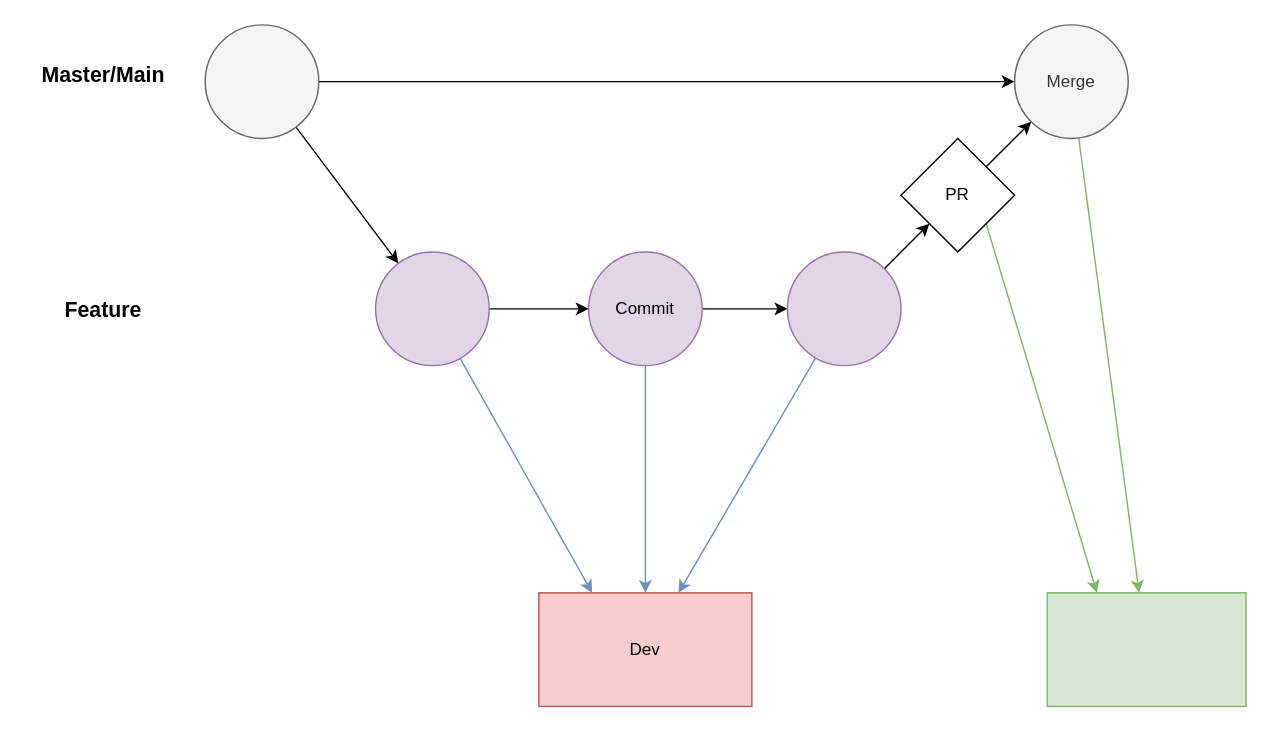
This 1271x731 diagram has some shape labels left out. The box of each missing label's shape, as (x1, y1, x2, y2) in pixels:
New Branch Commit: (374, 251, 489, 366)
Prod: (1046, 591, 1246, 706)
